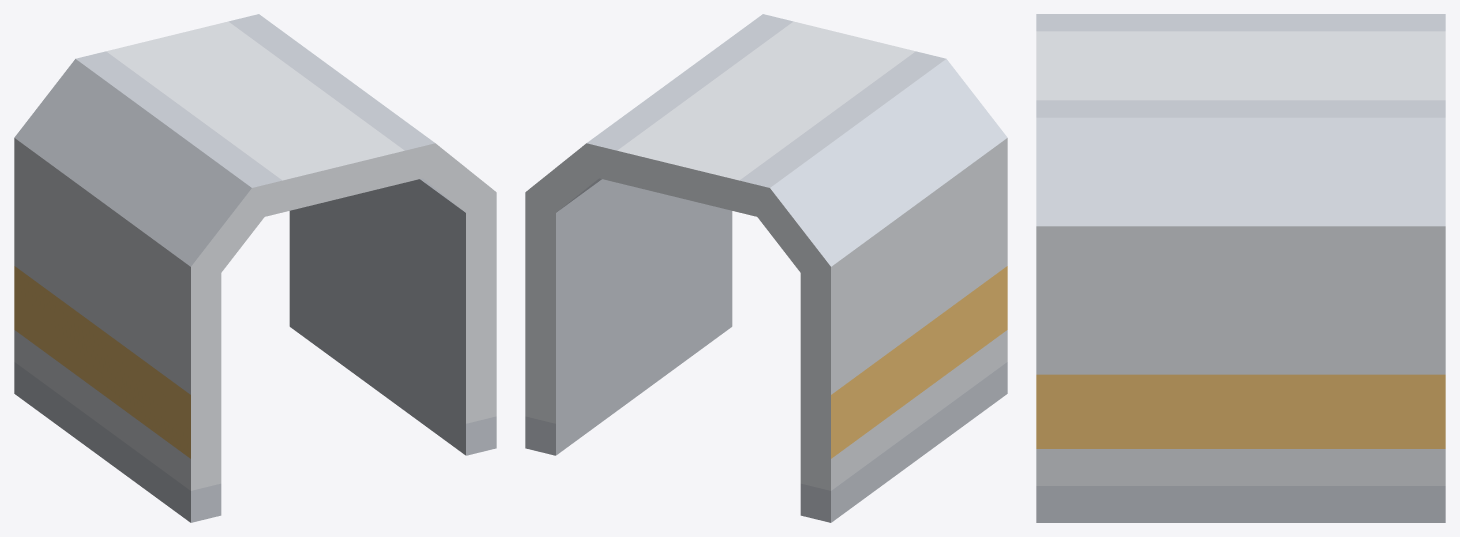
Rendered from corridor.glb.
The picture shows the model from 3 angles, left to right: view 1: azimuth 30°, elevation 25°; view 2: azimuth 150°, elevation 25°; view 3: azimuth 270°, elevation 25°; orthographic projection. The views are drawn at different scales.
Parts seen in each view (by area): view 1: corridor; view 2: corridor; view 3: corridor.
Part boxes in pixels (x1=…): corridor: x1=14, y1=14, x2=496, y2=522; corridor: x1=525, y1=14, x2=1007, y2=522; corridor: x1=1036, y1=14, x2=1445, y2=522.
Bounding box in the file's own units: 1 × 1 × 1.
